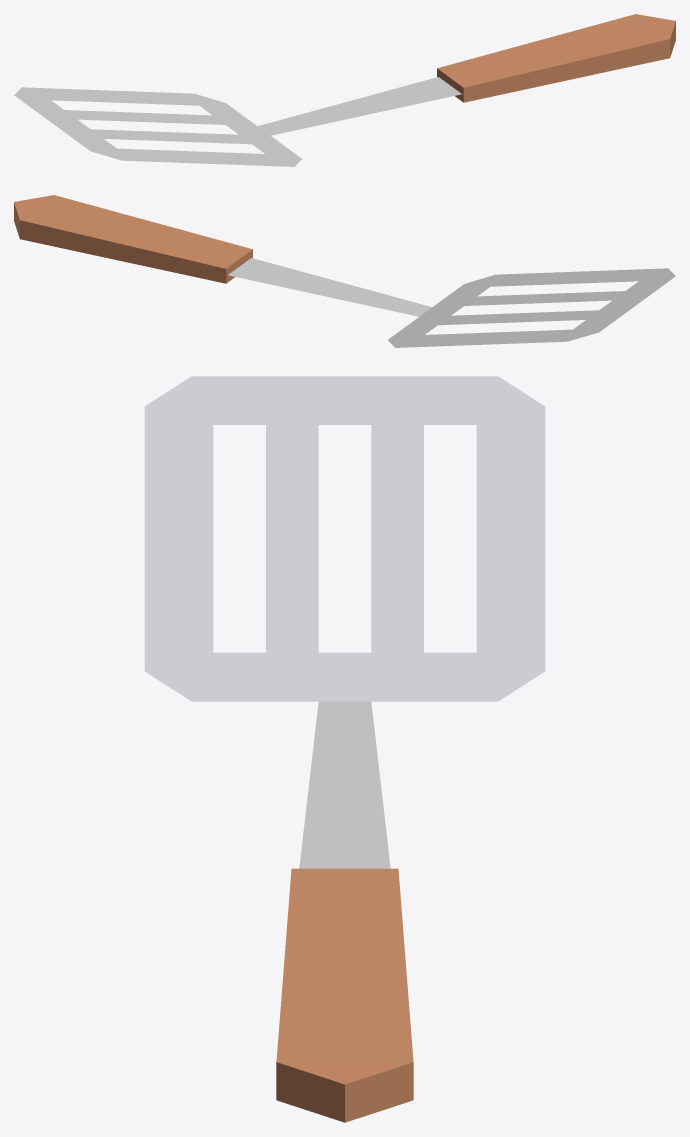
File: cookingSpatula.fbx
3 views of the same model, one above another, from view 1: azimuth 30°, elevation 25°; view 2: azimuth 150°, elevation 25°; view 3: azimuth 270°, elevation 25° (orthographic). The views are drawn at different scales.
Visible parts, largest first — view 1: cookingSpatula; view 2: cookingSpatula; view 3: cookingSpatula.
Boxes of the visible parts, x1=… form: cookingSpatula: x1=14, y1=14, x2=675, y2=166; cookingSpatula: x1=14, y1=195, x2=675, y2=347; cookingSpatula: x1=144, y1=376, x2=545, y2=1122.
Size of the model in its own units: 6.83 by 0.7212 by 1.9.
